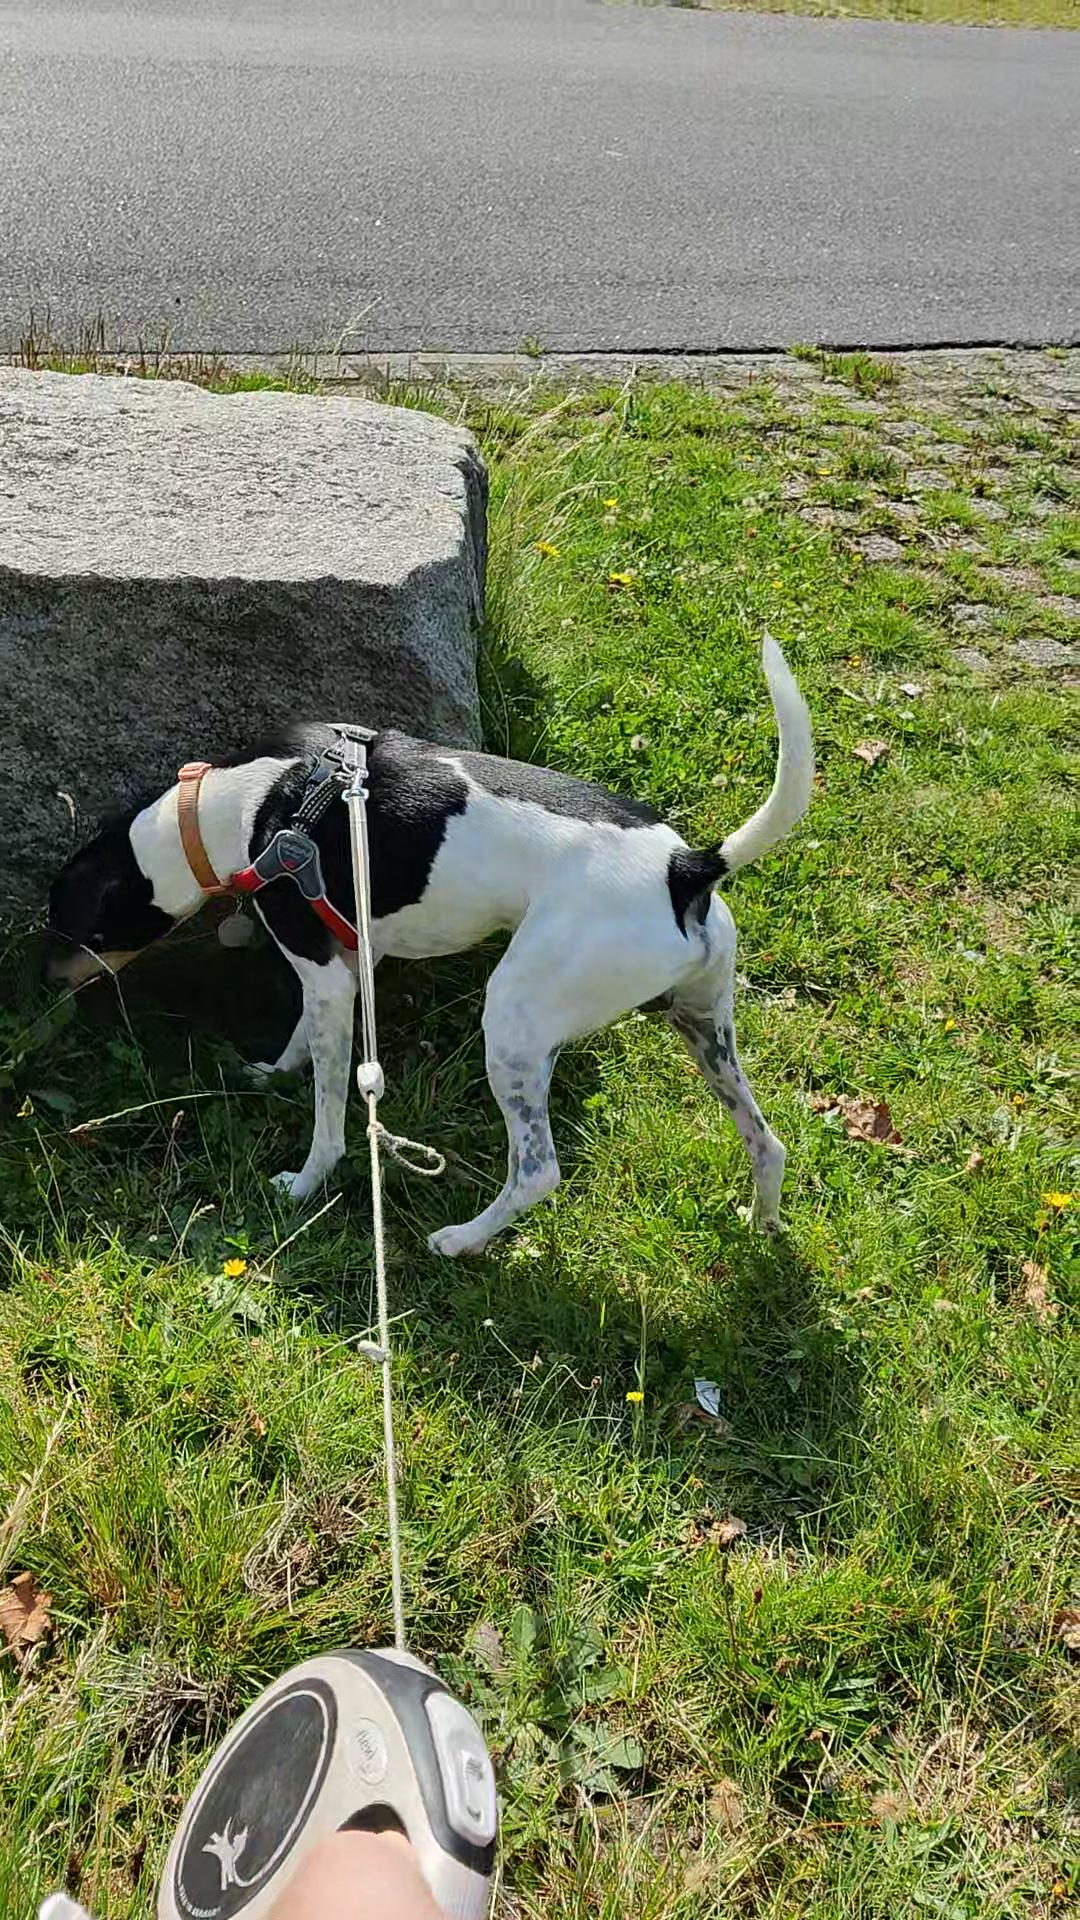Dog: (26, 624, 822, 1258)
